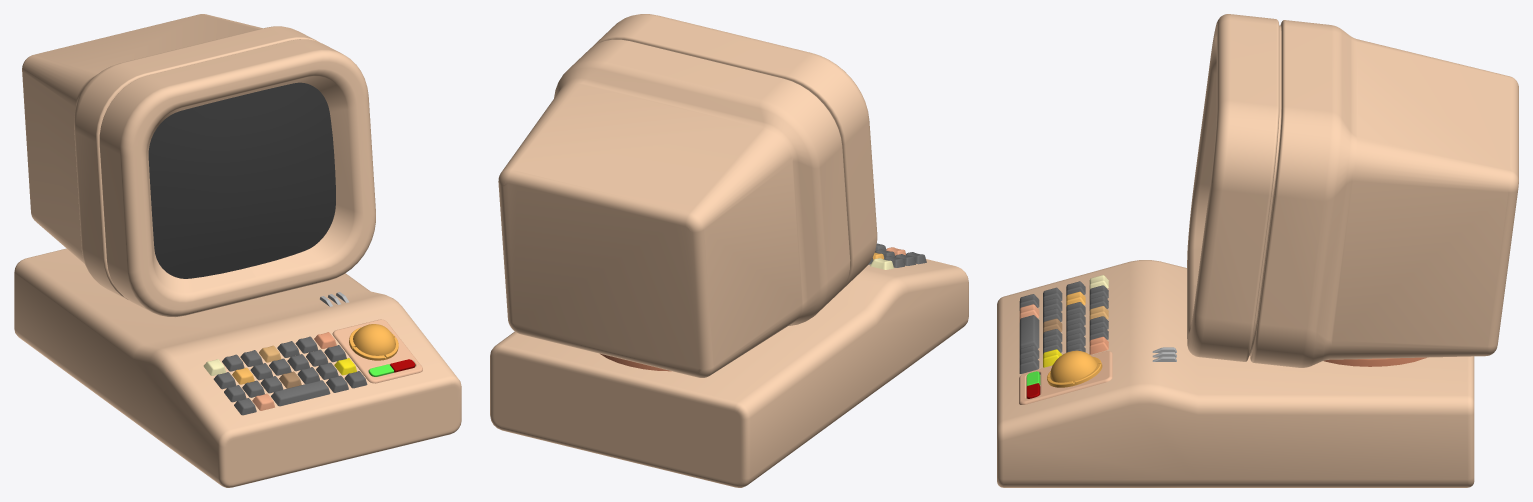
File: computer.fbx
The picture shows the model from 3 angles, left to right: view 1: azimuth 30°, elevation 25°; view 2: azimuth 150°, elevation 25°; view 3: azimuth 270°, elevation 25°; orthographic projection. The views are drawn at different scales.
Parts seen in each view (by area): view 1: Part2, Part1; view 2: Part2, Part1; view 3: Part2, Part1.
Part boxes in pixels (<box>): Part2: <box>14,14,461,487</box>; Part1: <box>148,82,422,415</box>; Part2: <box>490,14,968,487</box>; Part1: <box>600,243,926,371</box>; Part2: <box>997,14,1518,487</box>; Part1: <box>1019,275,1426,404</box>.
Size of the model in its own units: 63.51 by 78.45 by 102.
1 material, 1 textured.
